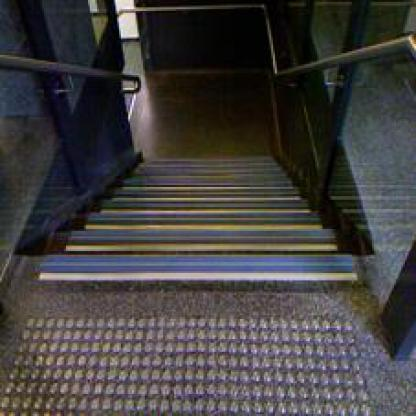stair_down: (19, 204, 356, 334)
